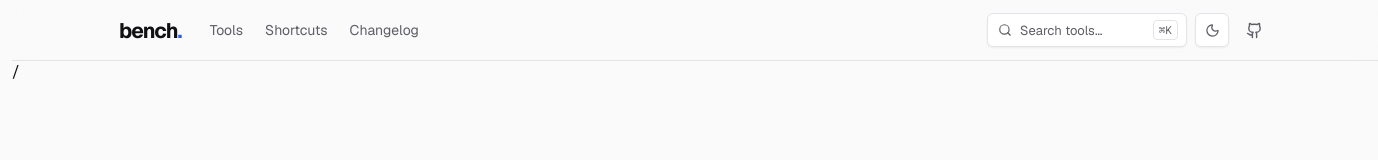
Test: LandingHeader › opens tool search from the search button
Step 1. Click the button "Search tools… ⌘K" → [1087, 30], box top-left (987, 13), bottom-right (1187, 47)
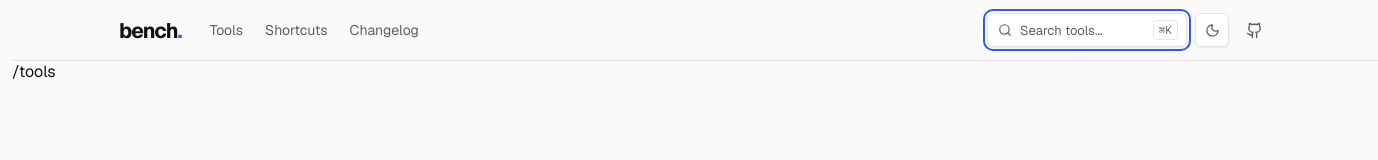
Expected: the text with test id "location" reads "/tools", top-left (12, 61), bottom-right (56, 82)
